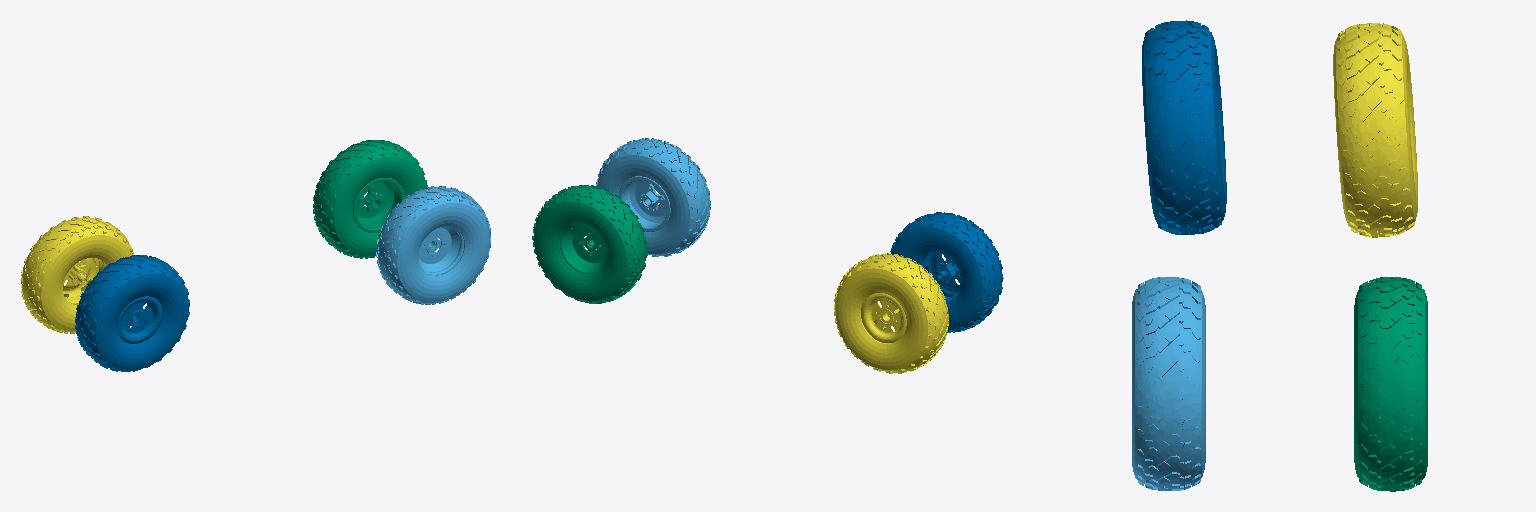
The robot description file, URDF, robot "vehicle":
<?xml version="1.0"?>
<robot name="vehicle">

  <!-- Base Link -->
  <link name="base_link">
    <inertial>
      <origin xyz="0 0 0" rpy="0 0 0" />
      <mass value="10.0" />
      <inertia ixx="1.0" ixy="0.0" ixz="0.0" iyy="1.0" iyz="0.0" izz="1.0" />
    </inertial>
    <visual>
      <origin xyz="0 0 0" rpy="0 0 0" />
      <geometry>
        <mesh filename="package://vehicle/meshes/base_link.STL" />
      </geometry>
      <material name="blue">
        <color rgba="0.0 0.0 1.0 1" />
      </material>
    </visual>
    <collision>
      <origin xyz="0 0 0" rpy="0 0 0" />
      <geometry>
        <mesh filename="package://vehicle/meshes/base_link.STL" />
      </geometry>
    </collision>
  </link>

  <!-- Front Right Wheel -->
  <link name="FRR">
    <inertial>
      <origin xyz="0 0 0" rpy="0 0 0" />
      <mass value="5.0" />
      <inertia ixx="0.5" ixy="0.0" ixz="0.0" iyy="0.5" iyz="0.0" izz="0.5" />
    </inertial>
    <visual>
      <origin xyz="0 0 0" rpy="0 0 0" />
      <geometry>
        <mesh filename="package://vehicle/meshes/FRR.STL" />
      </geometry>
    </visual>
    <collision>
      <origin xyz="0 0 0" rpy="0 0 0" />
      <geometry>
        <mesh filename="package://vehicle/meshes/FRR.STL" />
      </geometry>
    </collision>
  </link>

  <!-- Joint for Front Right Wheel -->
  <joint name="JTFRR" type="revolute">
    <origin xyz="0.8 -0.3 0.0" rpy="0 0 0" />
    <parent link="base_link" />
    <child link="FRR" />
    <axis xyz="0 1 0" />
    <limit lower="0" upper="0" effort="10" velocity="10" />
  </joint>

  <!-- Front Left Wheel -->
  <link name="FRL">
    <inertial>
      <origin xyz="0 0 0" rpy="0 0 0" />
      <mass value="5.0" />
      <inertia ixx="0.5" ixy="0.0" ixz="0.0" iyy="0.5" iyz="0.0" izz="0.5" />
    </inertial>
    <visual>
      <origin xyz="0 0 0" rpy="0 0 0" />
      <geometry>
        <mesh filename="package://vehicle/meshes/FRL.STL" />
      </geometry>
    </visual>
    <collision>
      <origin xyz="0 0 0" rpy="0 0 0" />
      <geometry>
        <mesh filename="package://vehicle/meshes/FRL.STL" />
      </geometry>
    </collision>
  </link>

  <!-- Joint for Front Left Wheel -->
  <joint name="JTFRL" type="revolute">
    <origin xyz="0.8 0.3 0.0" rpy="0 0 0" />
    <parent link="base_link" />
    <child link="FRL" />
    <axis xyz="0 1 0" />
    <limit lower="0" upper="0" effort="10" velocity="10" />
  </joint>

  <!-- Rear Left Wheel -->
  <link name="BKL">
    <inertial>
      <origin xyz="0 0 0" rpy="0 0 0" />
      <mass value="6.0" />
      <inertia ixx="0.6" ixy="0.0" ixz="0.0" iyy="0.6" iyz="0.0" izz="0.6" />
    </inertial>
    <visual>
      <origin xyz="0 0 0" rpy="0 0 0" />
      <geometry>
        <mesh filename="package://vehicle/meshes/BKL.STL" />
      </geometry>
    </visual>
    <collision>
      <origin xyz="0 0 0" rpy="0 0 0" />
      <geometry>
        <mesh filename="package://vehicle/meshes/BKL.STL" />
      </geometry>
    </collision>
  </link>

  <!-- Joint for Rear Left Wheel -->
  <joint name="JTBKL" type="continuous">
    <origin xyz="-0.8 0.3 0.0" rpy="0 0 0" />
    <parent link="base_link" />
    <child link="BKL" />
    <axis xyz="0 1 0" />
  </joint>

  <!-- Rear Right Wheel -->
  <link name="BKR">
    <inertial>
      <origin xyz="0 0 0" rpy="0 0 0" />
      <mass value="6.0" />
      <inertia ixx="0.6" ixy="0.0" ixz="0.0" iyy="0.6" iyz="0.0" izz="0.6" />
    </inertial>
    <visual>
      <origin xyz="0 0 0" rpy="0 0 0" />
      <geometry>
        <mesh filename="package://vehicle/meshes/BKR.STL" />
      </geometry>
    </visual>
    <collision>
      <origin xyz="0 0 0" rpy="0 0 0" />
      <geometry>
        <mesh filename="package://vehicle/meshes/BKR.STL" />
      </geometry>
    </collision>
  </link>

  <!-- Joint for Rear Right Wheel -->
  <joint name="JTBKR" type="continuous">
    <origin xyz="-0.8 -0.3 0.0" rpy="0 0 0" />
    <parent link="base_link" />
    <child link="BKR" />
    <axis xyz="0 1 0" />
  </joint>

  <!-- Ackermann Steering Controller -->
  <transmission name="front_left_steering_transmission">
    <type>transmission_interface/SimpleTransmission</type>
    <joint name="front_left_steering_joint">
      <hardwareInterface>hardware_interface/PositionJointInterface</hardwareInterface>
    </joint>
  </transmission>

  <transmission name="front_right_steering_transmission">
    <type>transmission_interface/SimpleTransmission</type>
    <joint name="front_right_steering_joint">
      <hardwareInterface>hardware_interface/PositionJointInterface</hardwareInterface>
    </joint>
  </transmission>

  <transmission name="rear_left_wheel_transmission">
    <type>transmission_interface/SimpleTransmission</type>
    <joint name="rear_left_wheel_joint">
      <hardwareInterface>hardware_interface/VelocityJointInterface</hardwareInterface>
    </joint>
  </transmission>

  <transmission name="rear_right_wheel_transmission">
    <type>transmission_interface/SimpleTransmission</type>
    <joint name="rear_right_wheel_joint">
      <hardwareInterface>hardware_interface/VelocityJointInterface</hardwareInterface>
    </joint>
  </transmission>

</robot>


--- Render facts (derived) ---
Views: 3 orthographic renders of the robot side by side, from view 1: azimuth 30°, elevation 25°; view 2: azimuth 150°, elevation 25°; view 3: azimuth 270°, elevation 25°.
Model vehicle with 5 links and 4 joints (2 revolute, 2 continuous), rooted at base_link, posed all joints at 0.
Links seen in each view (by area): view 1: FRR, BKR, FRL, BKL; view 2: BKL, FRL, FRR, BKR; view 3: BKL, BKR, FRL, FRR.
Link boxes in pixels (x1=…): FRR: x1=376, y1=186, x2=490, y2=304; BKR: x1=75, y1=255, x2=189, y2=371; FRL: x1=313, y1=140, x2=427, y2=258; BKL: x1=20, y1=216, x2=133, y2=333; BKL: x1=834, y1=253, x2=948, y2=373; FRL: x1=532, y1=185, x2=647, y2=303; FRR: x1=596, y1=138, x2=710, y2=256; BKR: x1=890, y1=212, x2=1003, y2=332; BKL: x1=1333, y1=23, x2=1417, y2=237; BKR: x1=1142, y1=20, x2=1226, y2=234; FRL: x1=1354, y1=277, x2=1427, y2=491; FRR: x1=1132, y1=277, x2=1205, y2=490.
Bounding box of the posed robot: 2.17 × 0.7882 × 0.5779 m (x, y, z).
Meshes: 5 distinct files referenced, 4 mesh visuals loaded (4 binary STL); not drawn: 1 (reference not matched to a file when rendering).